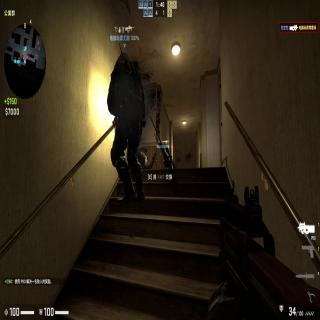CT-Body: (107, 51, 146, 202)
